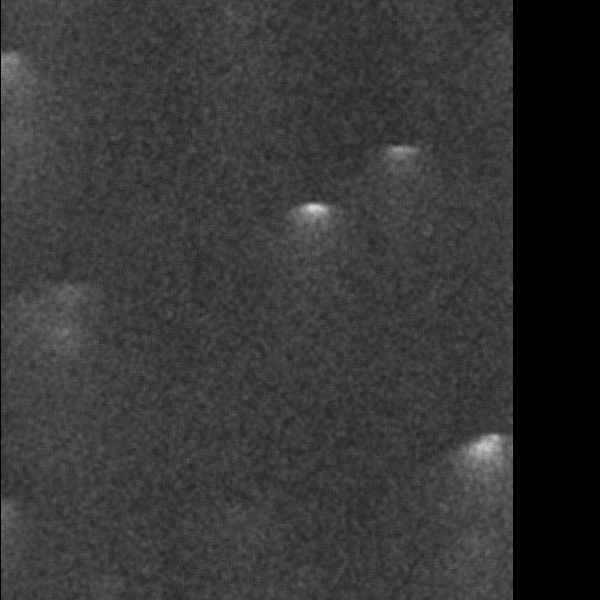spark: (350, 538, 392, 562)
